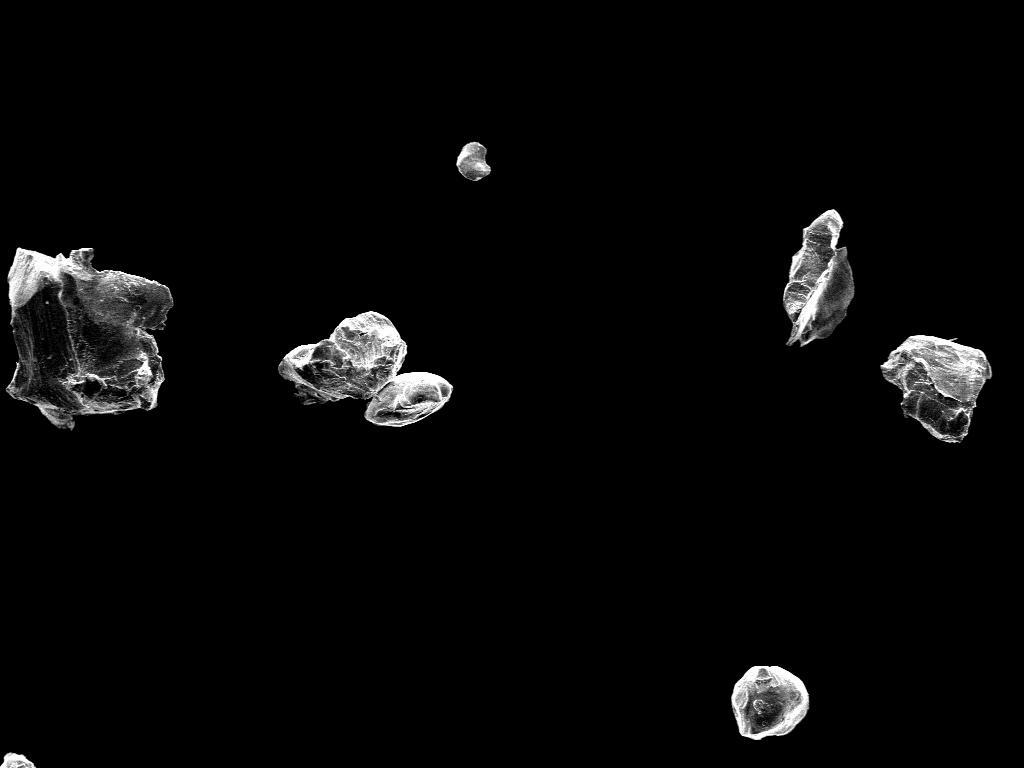Powder: (8, 248, 172, 428), (278, 312, 406, 403), (882, 336, 992, 441), (784, 210, 854, 345), (732, 666, 808, 740), (366, 372, 452, 426), (456, 142, 490, 181), (0, 752, 34, 768)
